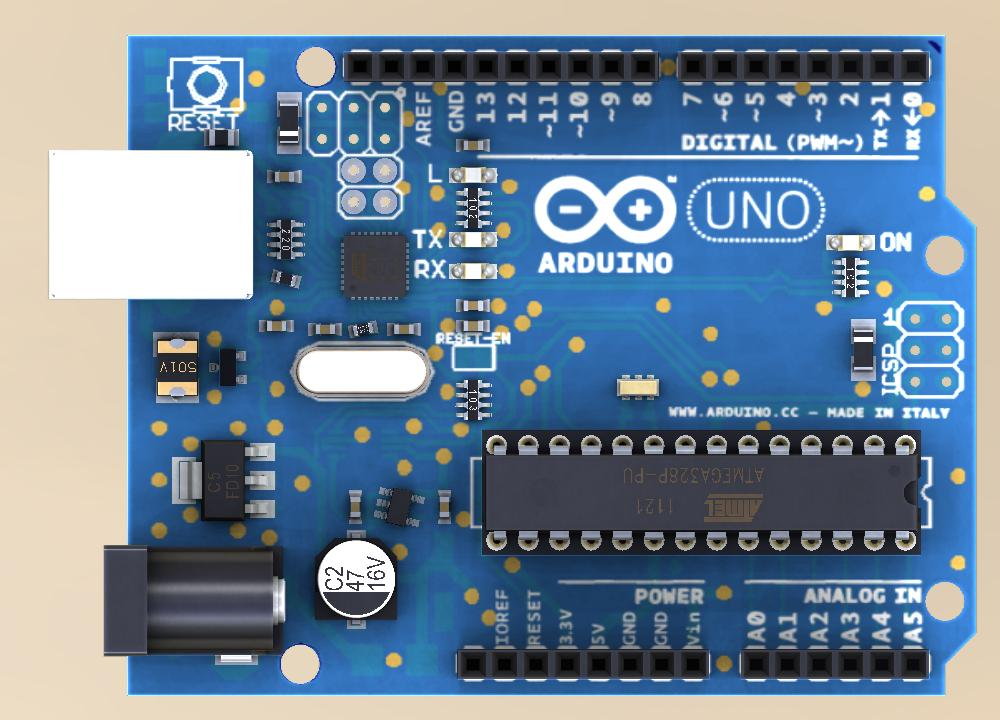16MHz Crystal: (612, 374, 664, 402)
47uF CAP: (312, 536, 399, 633)
ATMEL328P: (480, 430, 922, 557)
CD1206: (275, 91, 302, 154), (852, 318, 876, 382)
Capa: (256, 316, 298, 335), (266, 166, 304, 186), (436, 487, 454, 527), (307, 320, 344, 338), (388, 320, 423, 339), (348, 488, 365, 526), (452, 138, 494, 153), (455, 318, 492, 334), (456, 299, 490, 314)
Crystal: (292, 339, 432, 406)
Fuse: (151, 329, 202, 404)
LED: (825, 230, 878, 253), (449, 230, 499, 250), (449, 262, 499, 281), (449, 167, 497, 183)
LMV358: (372, 483, 426, 531)
Missing: (136, 39, 267, 135), (401, 539, 488, 628), (305, 89, 407, 159), (897, 301, 965, 403), (313, 416, 422, 477), (334, 639, 446, 685)
Ports: (342, 47, 660, 87), (457, 643, 713, 686), (677, 48, 932, 88), (740, 643, 934, 685)
Power: (106, 544, 284, 663)
Regulator: (151, 430, 288, 544)
Resistor: (267, 265, 306, 291), (203, 127, 239, 148), (347, 320, 381, 340)
Resistor pack: (453, 376, 496, 423), (265, 218, 307, 262), (455, 184, 493, 230), (832, 256, 870, 299)
SSOT3: (205, 346, 252, 388)
USB: (47, 151, 254, 300)
